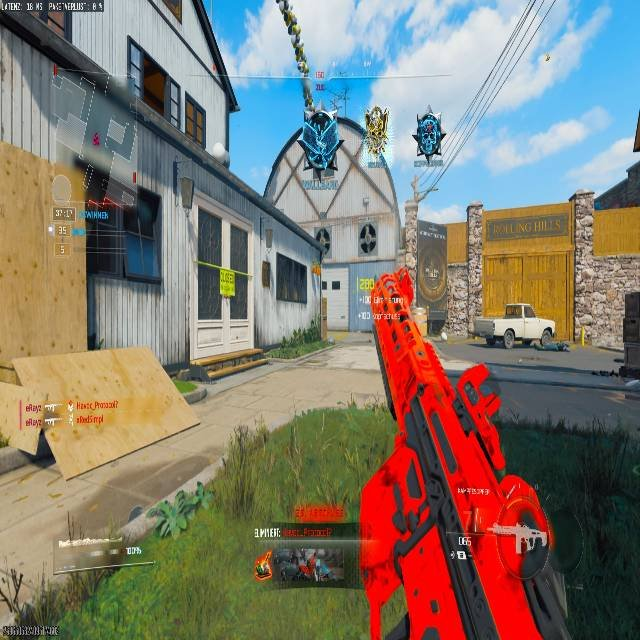player: (413, 110, 444, 165)
